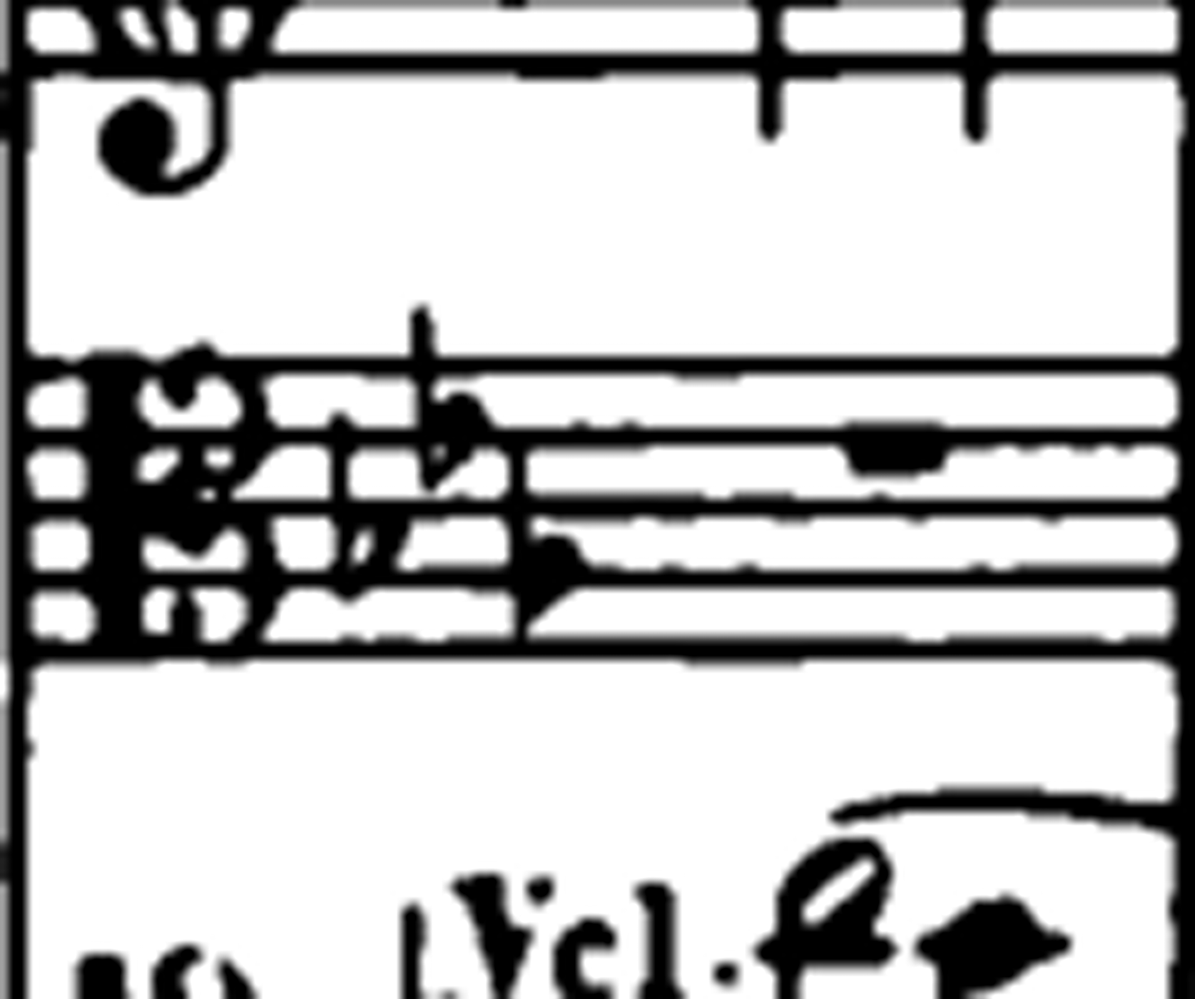beam: (918, 900, 1030, 959)
clefCAlto: (49, 301, 298, 703)
restHBar: (254, 35, 1149, 93), (164, 621, 1060, 676), (4, 36, 851, 94), (15, 336, 911, 390), (178, 482, 1060, 536), (316, 483, 1195, 532), (164, 341, 1060, 389), (315, 553, 1195, 601), (828, 781, 1194, 838)
restQuarter: (772, 933, 807, 999)
